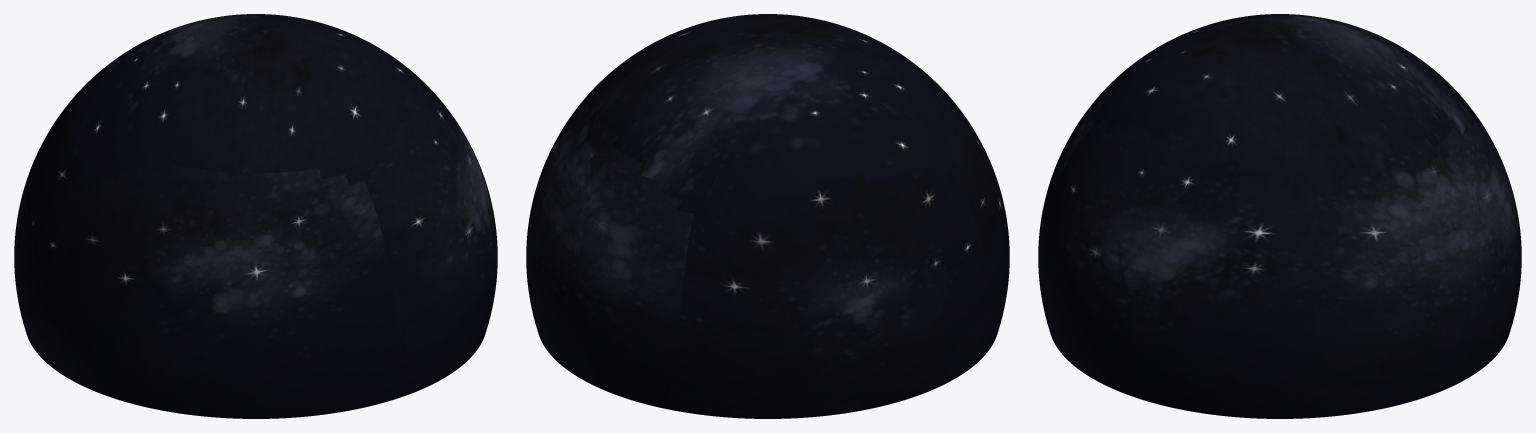
Rendered from domo ceu.fbx.
3 renders of one model, left to right at view 1: azimuth 30°, elevation 25°; view 2: azimuth 150°, elevation 25°; view 3: azimuth 270°, elevation 25°, orthographic.
Visible parts, largest first — view 1: Sphere; view 2: Sphere; view 3: Sphere.
Part boxes in pixels (x1,y1,x2,y2): Sphere: [14, 14, 497, 418]; Sphere: [526, 14, 1009, 418]; Sphere: [1038, 14, 1521, 418].
Size of the model in its own units: 1973 by 1285 by 1973.
1 material, 1 textured.
